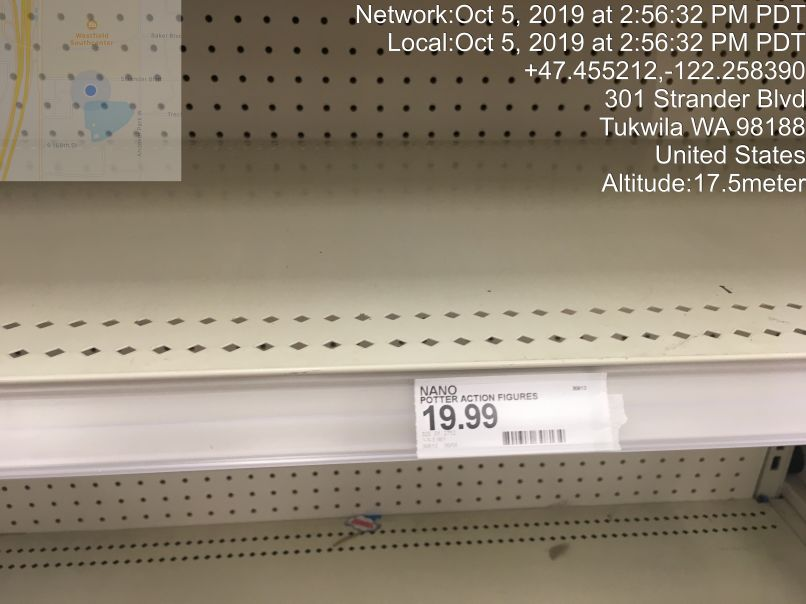Label: (411, 371, 617, 460)
Location: (599, 86, 806, 170)
Time: (351, 4, 806, 54)
Void: (13, 69, 592, 315)
